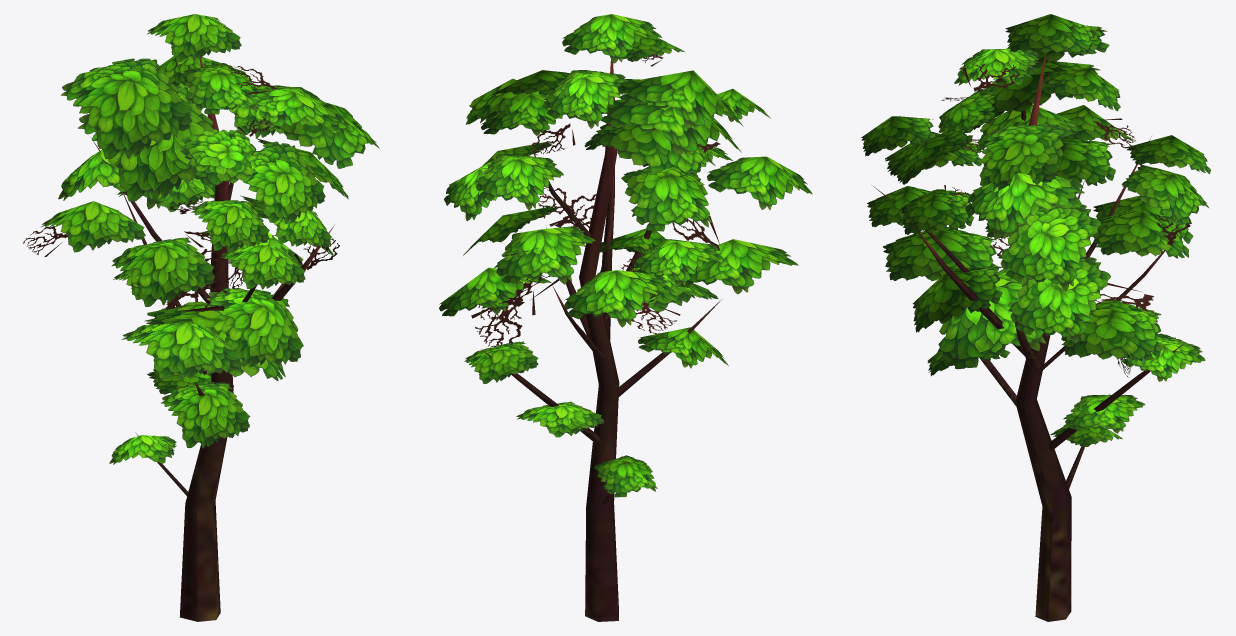
File: Tree02.fbx
3 renders of one model, left to right at view 1: azimuth 30°, elevation 25°; view 2: azimuth 150°, elevation 25°; view 3: azimuth 270°, elevation 25°, orthographic.
Parts seen in each view (by area): view 1: a23; view 2: a23; view 3: a23.
Part boxes in pixels (left/top/right/bottom): a23: left=23, top=14, right=379, bottom=621; a23: left=439, top=14, right=812, bottom=621; a23: left=861, top=14, right=1210, bottom=621.
Bounding box in the file's own units: 3.23 × 5.73 × 3.24.
